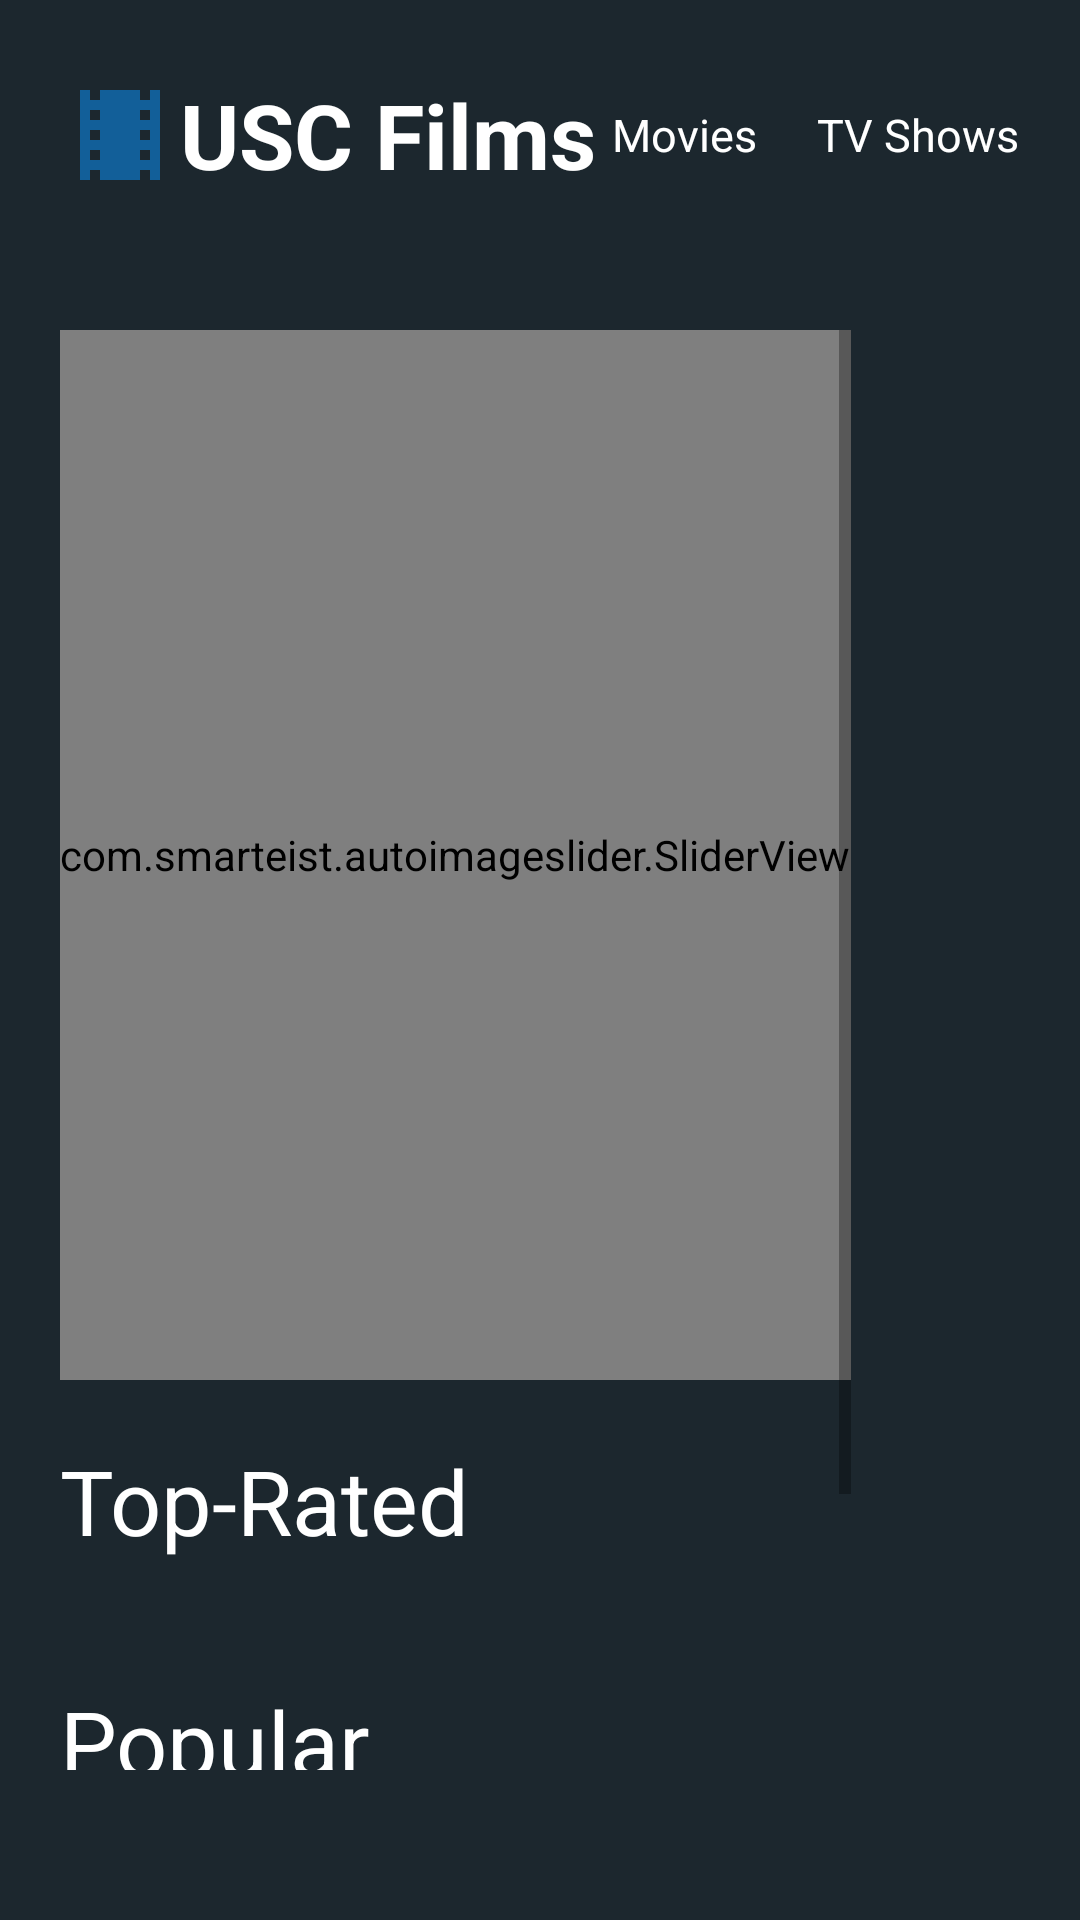

Named icons in this screenshot (1080×1920) and their centers, point (x, y):
movie: point (120, 135)
